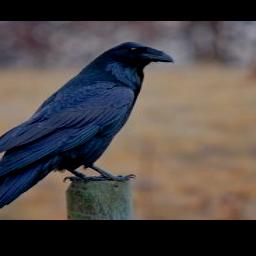Crow: (0, 39, 178, 219)
